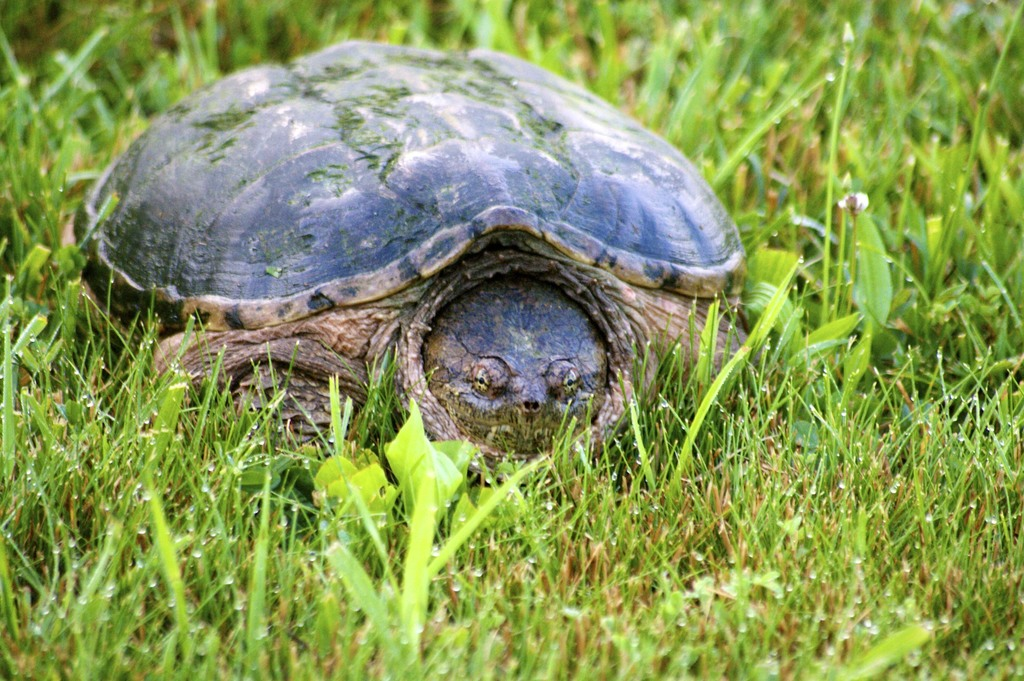Sea turtles: (66, 30, 759, 481)
